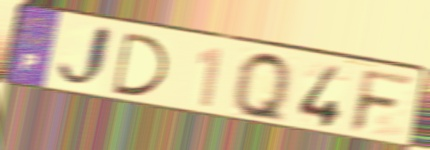1: (195, 45, 225, 109)
4: (295, 61, 345, 129)
D: (110, 30, 172, 99)
F: (346, 67, 418, 137)
J: (54, 22, 116, 92)
Q: (232, 48, 292, 127)
